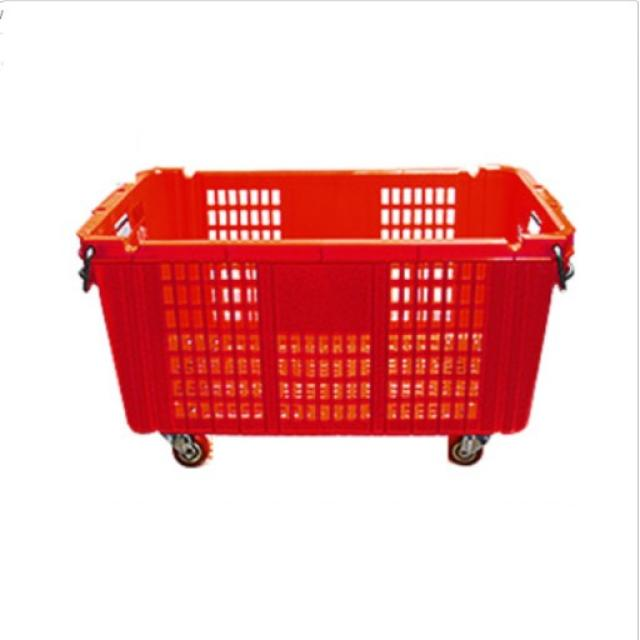basket: (77, 166, 577, 467)
